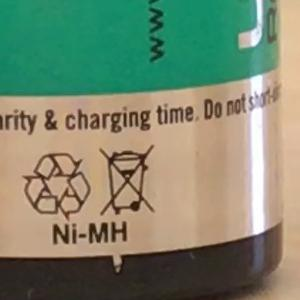keyword: (43, 211, 137, 255)
